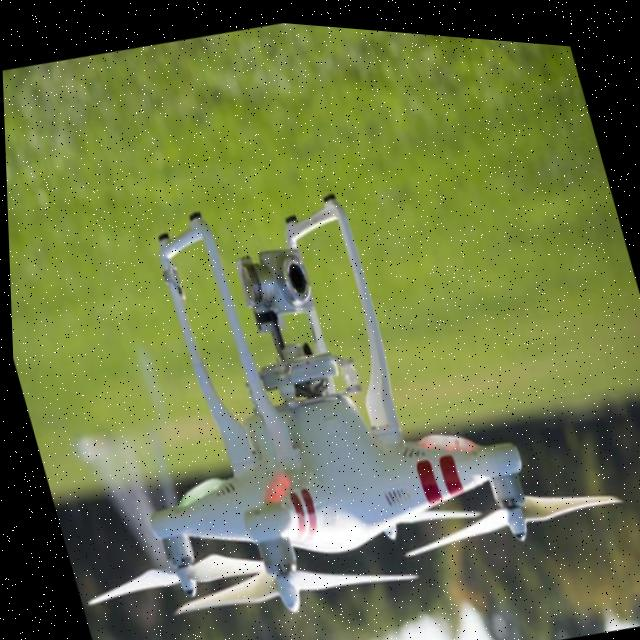drones: (3, 90, 640, 640)
